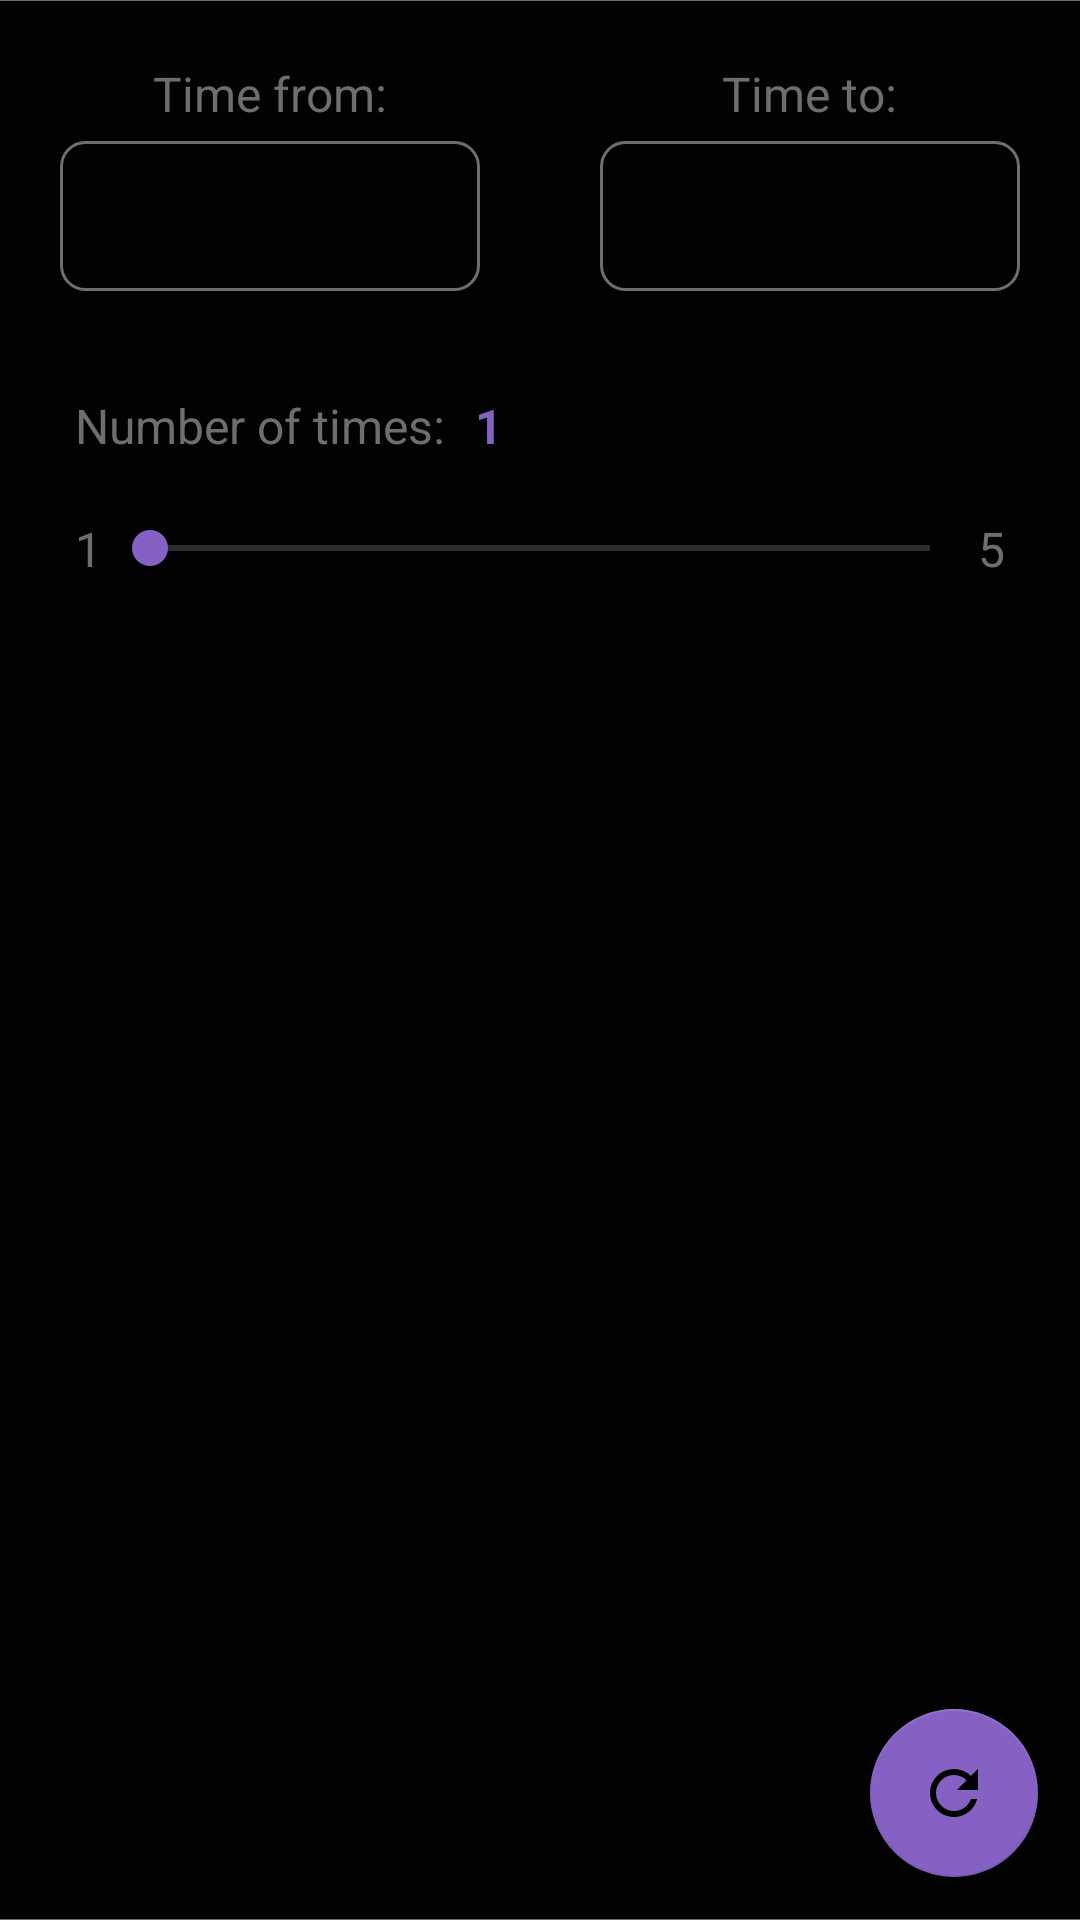

Icons on this 1080x1920 Android screen, each with its box as (x1, y1, x2, y2):
refresh: (870, 1709, 1038, 1877)
